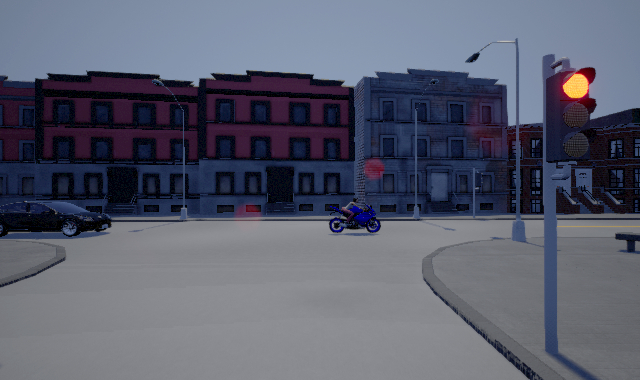motobike: (329, 197, 381, 233)
traffic_light: (546, 64, 597, 160)
vehicle: (1, 201, 112, 237)
